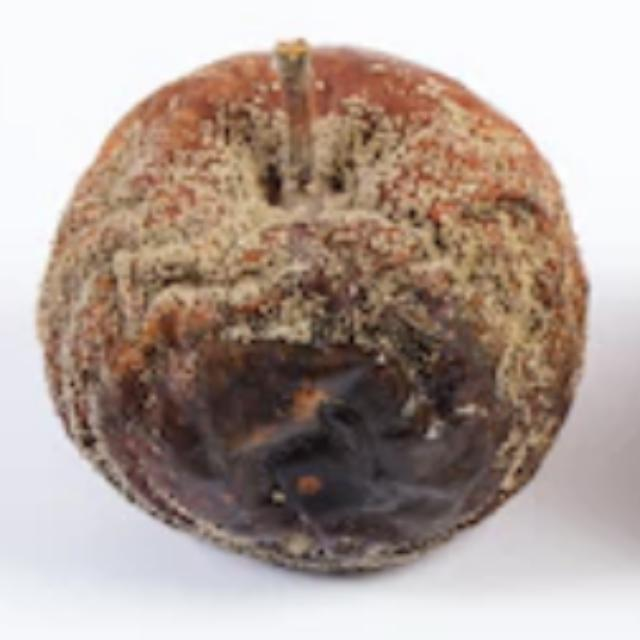Apel Tidak Segar: (28, 32, 594, 584)
